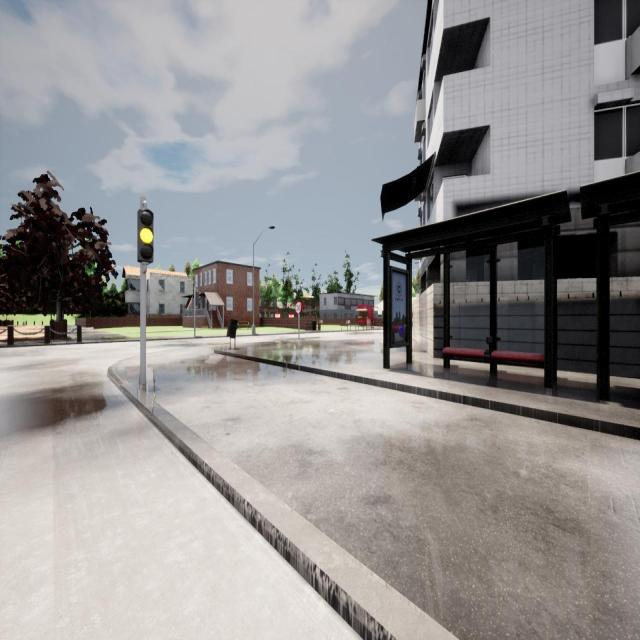Traffic_Signs: (295, 301, 302, 314)
traffic_light: (137, 208, 154, 262), (196, 292, 201, 305)
